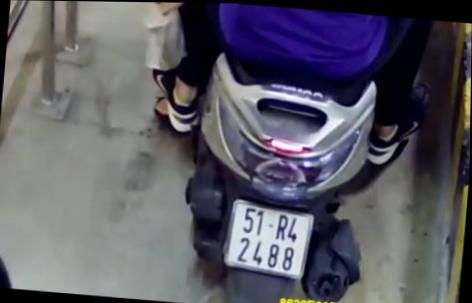LP: (221, 196, 315, 281)
